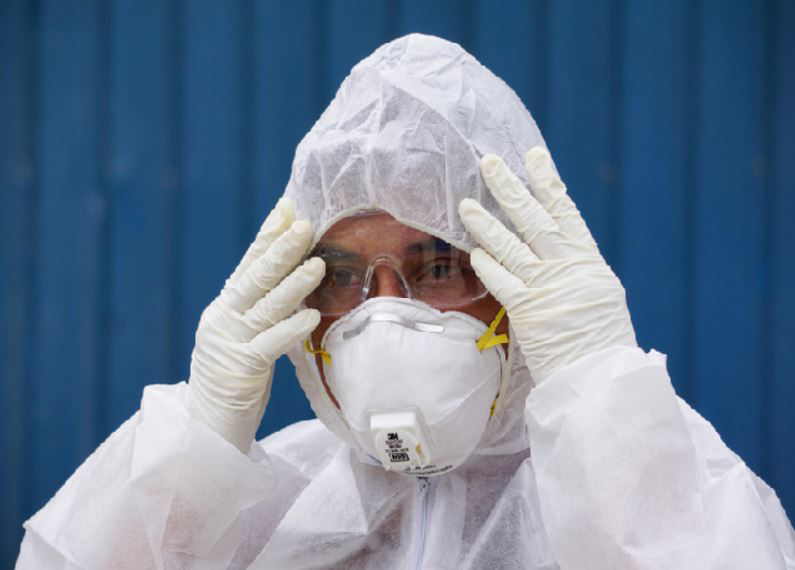Coverall: (22, 39, 789, 566)
Gloves: (455, 145, 636, 377), (184, 194, 327, 451)
Goggles: (300, 243, 495, 315)
with_mask: (309, 276, 504, 481)
